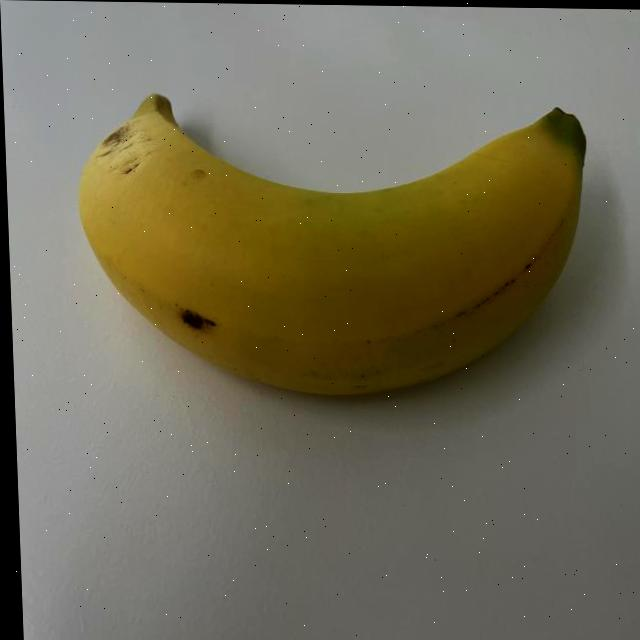banana: (63, 67, 607, 414)
